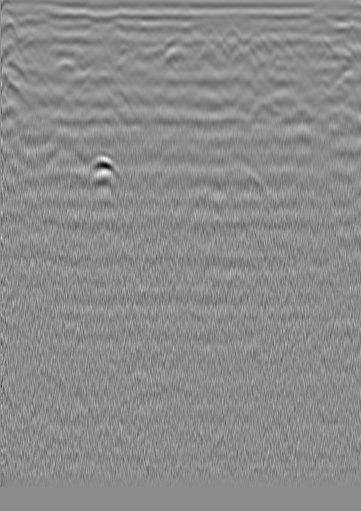가스: (77, 157, 121, 185)
상수: (328, 22, 348, 42)
오수: (38, 25, 58, 45)
우수: (202, 26, 222, 46)
